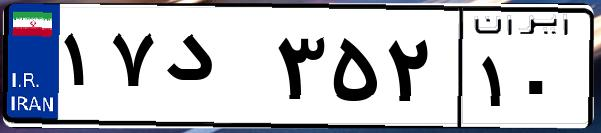0: (525, 38, 570, 115)
1: (57, 26, 110, 100), (475, 38, 525, 113)
2: (385, 28, 445, 110)
3: (270, 28, 330, 110)
5: (330, 28, 385, 110)
7: (110, 28, 158, 98)
د: (158, 20, 270, 120)
